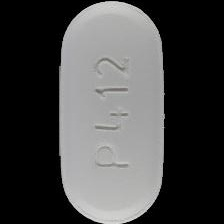49884-412: (0, 0, 224, 224)
